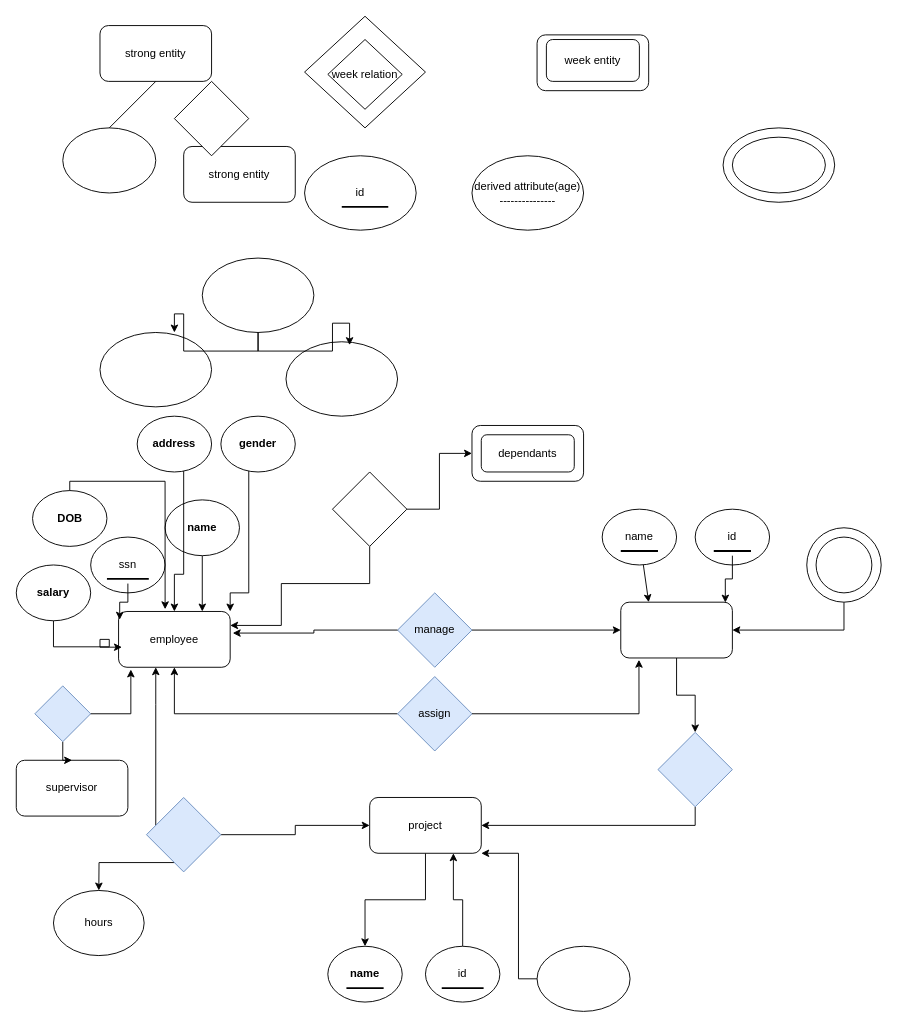
Image size: 897x1028. Some labels were removed from this diagram. The centre of each missing label's shape, as x and y in pixels:
"composite" goes at (x=257, y=294).
"controll" goes at (x=694, y=769).
"departmaent" goes at (x=676, y=629).
"has" goes at (x=369, y=508).
"location" goes at (x=583, y=978).
"locatons" goes at (x=843, y=564).
"multivalued" goes at (x=778, y=164).
"simple attribute" goes at (x=109, y=160).
"supervise" goes at (x=62, y=713).
"work" goes at (x=183, y=834).
